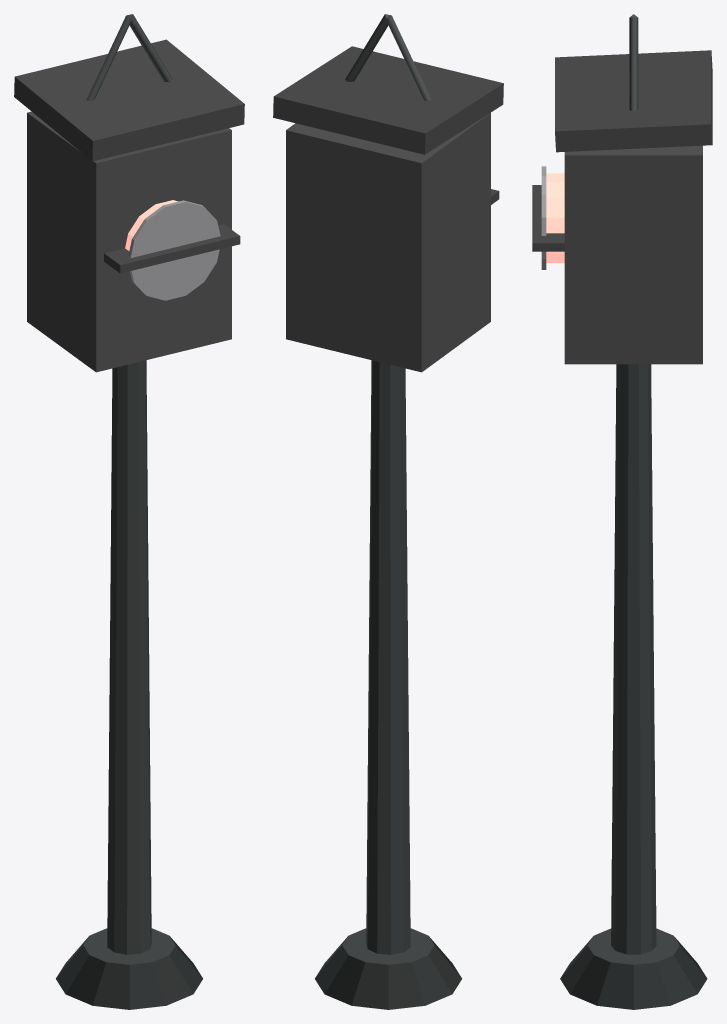
The model's file is railway_signal_lamp_a.glb.
The picture shows the model from 3 angles, left to right: view 1: azimuth 30°, elevation 25°; view 2: azimuth 150°, elevation 25°; view 3: azimuth 270°, elevation 25°; orthographic projection.
Parts seen in each view (by area): view 1: body; view 2: body; view 3: body, lamp_glass.
Part boxes in pixels (x1,y1,x2,y2): body: (14, 14, 244, 1009); body: (273, 14, 503, 1009); body: (532, 14, 712, 1009); lamp_glass: (546, 173, 564, 263).
Size of what is drawn, in the model's own units: 0.38 by 2.3 by 0.391.
